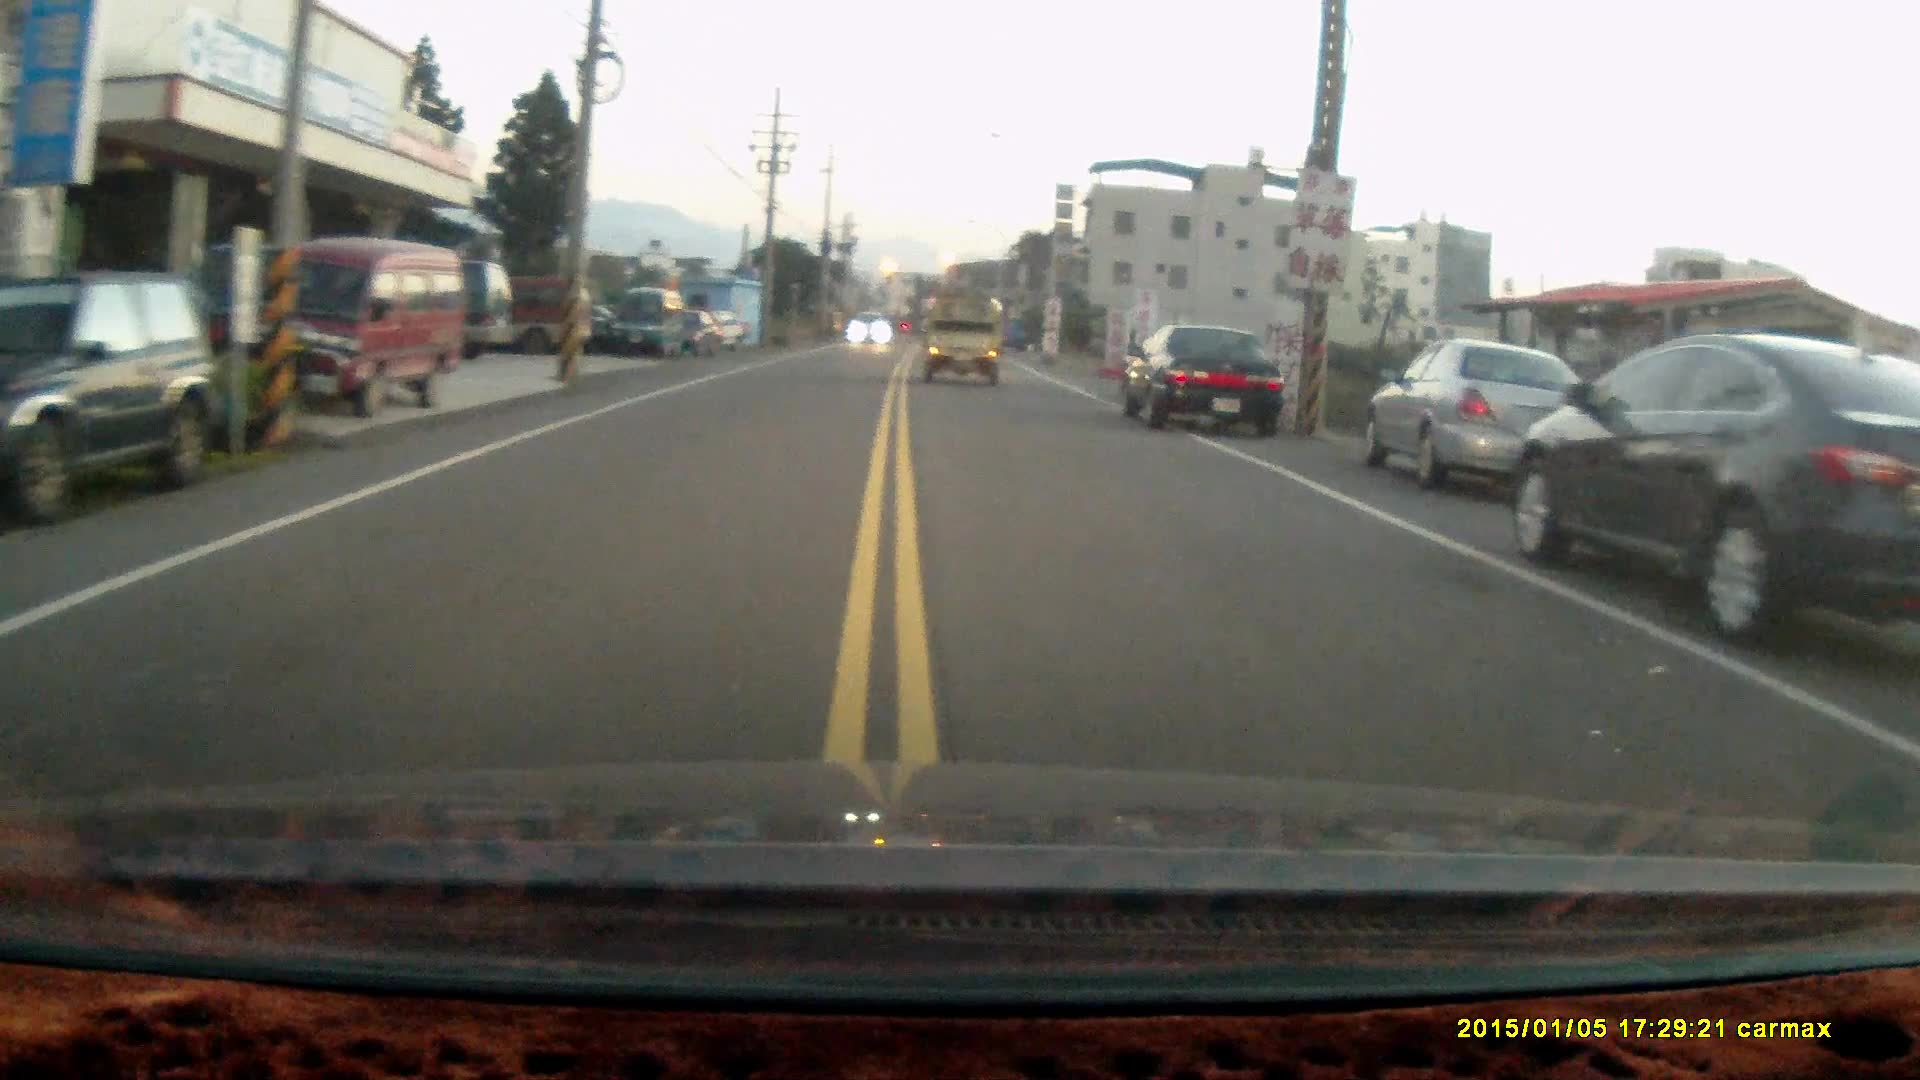vehicle: (1513, 334, 1920, 647), (1, 274, 233, 527), (229, 237, 467, 409), (1366, 336, 1610, 488), (315, 248, 522, 357), (1116, 316, 1284, 438), (430, 268, 589, 349), (927, 294, 1010, 382), (611, 286, 686, 355)
